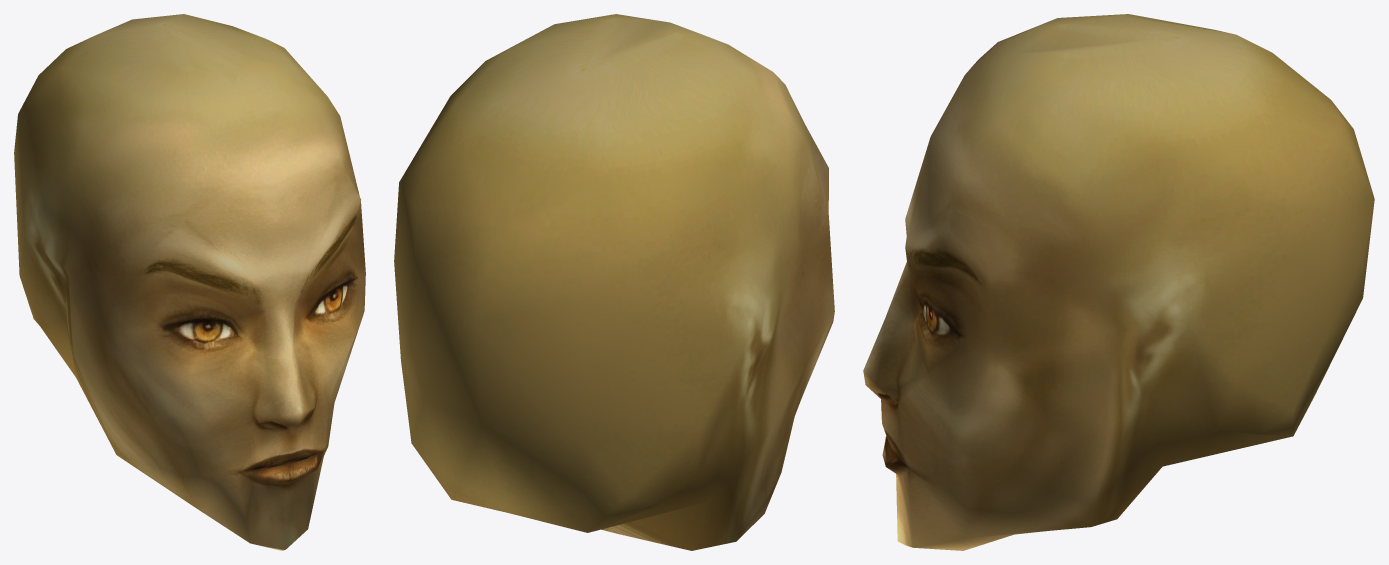
File: b_n_high elf_f_head_05.glb
3 views of the same model, side by side, from view 1: azimuth 30°, elevation 25°; view 2: azimuth 150°, elevation 25°; view 3: azimuth 270°, elevation 25° (orthographic). The views are drawn at different scales.
Parts seen in each view (by area): view 1: Tri B_N_High Elf_F_Head_05; view 2: Tri B_N_High Elf_F_Head_05; view 3: Tri B_N_High Elf_F_Head_05.
Boxes of the visible parts, x1,y1,x2,y2 form: Tri B_N_High Elf_F_Head_05: (14, 14, 365, 550); Tri B_N_High Elf_F_Head_05: (394, 14, 834, 550); Tri B_N_High Elf_F_Head_05: (863, 14, 1374, 550).
Size of the model in its own units: 0.0969 by 0.1523 by 0.1389.
Materials: 1 (1 with a texture image).
